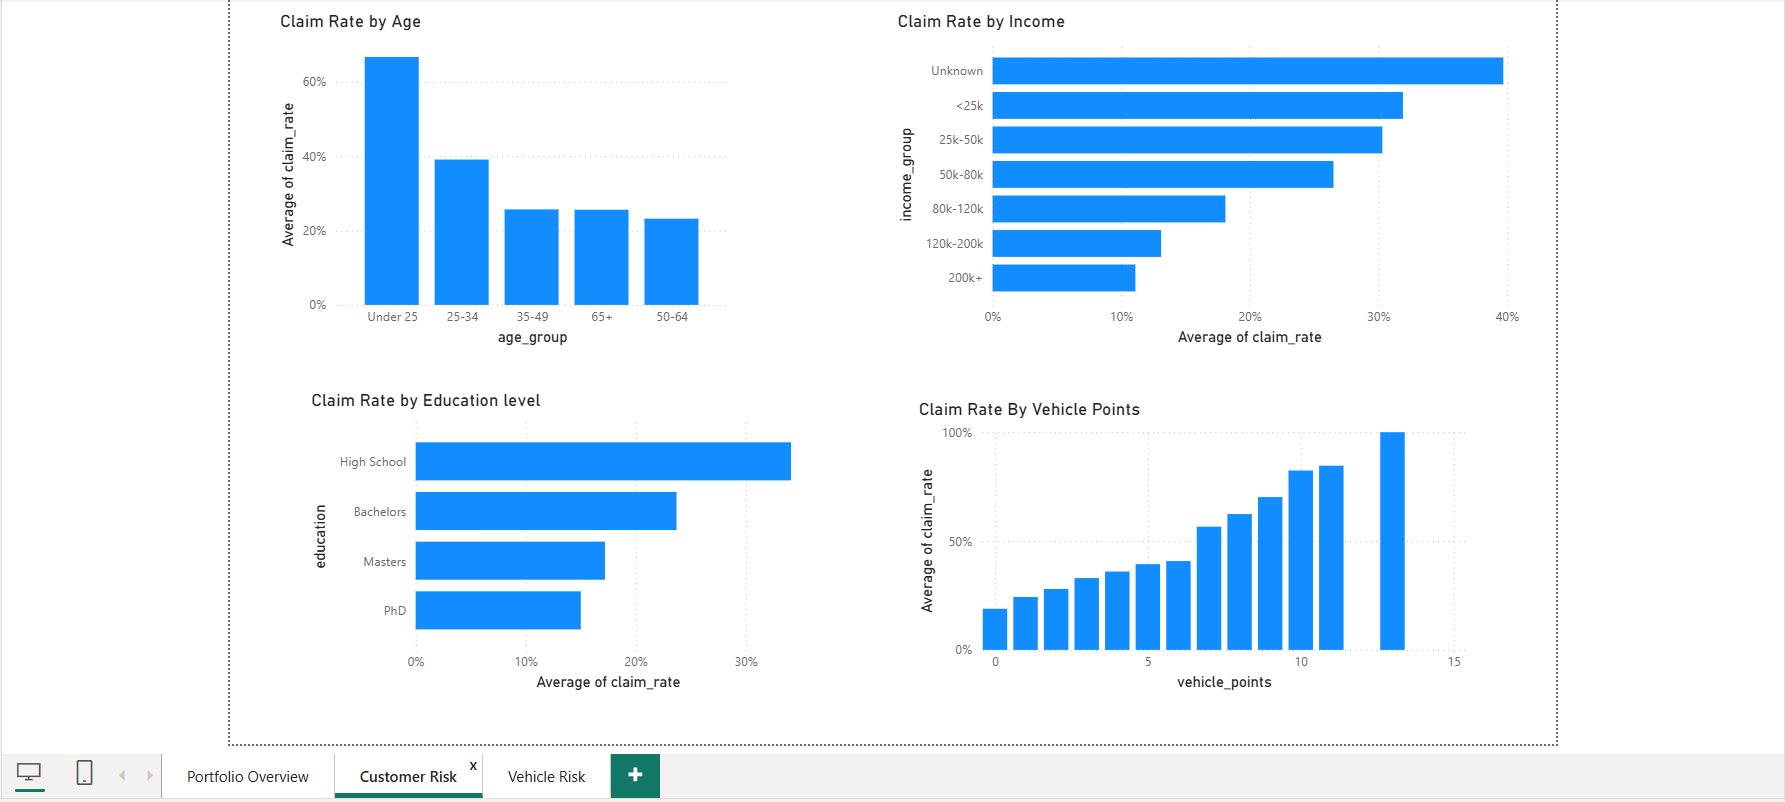

The dashboard page shown, as its layout file describes it:
{"tool":"powerbi","page":{"name":"Customer Risk","canvas":[1280,720],"ordinal":1},"visuals":[{"type":"columnChart","title":"Claim Rate by Age","fields":{"Category":["claim_rate_by_age_group.age_group"],"Y":["Avg(claim_rate_by_age_group.claim_rate)"]},"box":[43.4,12.1,442.8,328.2],"z":0},{"type":"clusteredBarChart","title":"Claim Rate by Income ","fields":{"Category":["claim_rate_by_income_group.income_group"],"Y":["Avg(claim_rate_by_income_group.claim_rate)"]},"box":[639.4,12.1,610.5,328.2],"z":1000},{"type":"clusteredBarChart","title":"Claim Rate by Education level","fields":{"Y":["Avg(claim_rate_by_education.claim_rate)"],"Category":["claim_rate_by_education.education"]},"box":[73.6,377.6,494.6,295.6],"z":2000},{"type":"clusteredColumnChart","title":"Claim Rate By Vehicle Points","fields":{"Y":["Avg(claim_rate_by_vehicle_points.claim_rate)"],"Category":["claim_rate_by_vehicle_points.vehicle_points"]},"box":[659.9,386.1,538.1,287.1],"z":3000}]}

Visuals, with their boxes on the page's 1280x720 design canvas (x1, y1, x2, y2). These are canvas units, not pixel positions in the 1785x802 screenshot, which may show the page scaled, cropped or inside an application window:
"Claim Rate by Age" columnChart: left=43, top=12, right=486, bottom=340
"Claim Rate by Income " clusteredBarChart: left=639, top=12, right=1250, bottom=340
"Claim Rate by Education level" clusteredBarChart: left=74, top=378, right=568, bottom=673
"Claim Rate By Vehicle Points" clusteredColumnChart: left=660, top=386, right=1198, bottom=673
